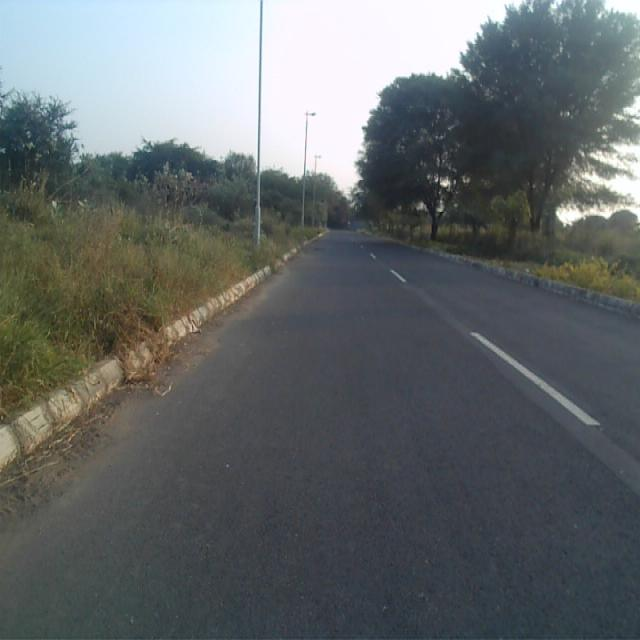lane: (0, 233, 640, 640)
